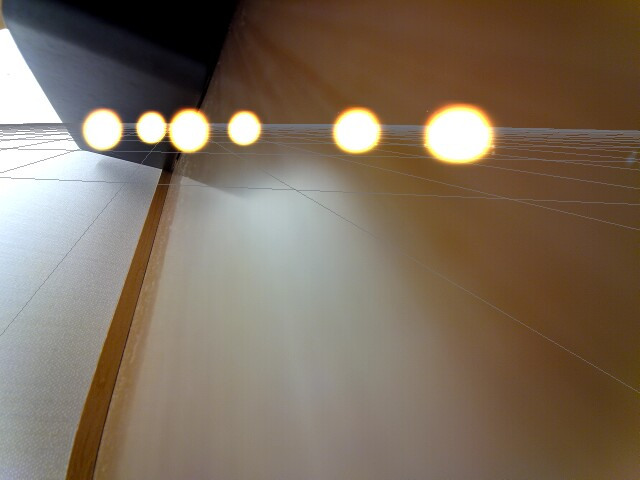firebig: (414, 96, 516, 180)
